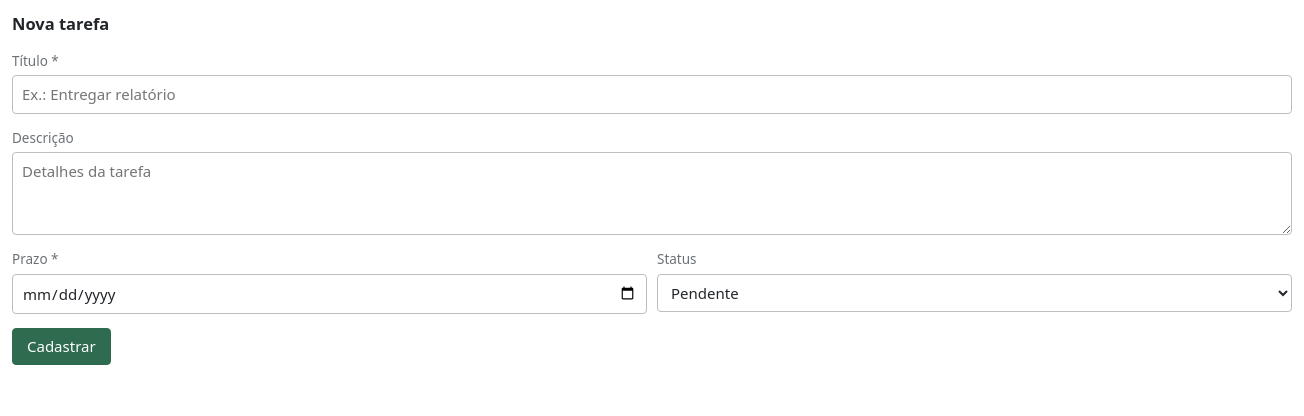
Scenario: FormularioTarefa › mostra mensagem de validação e não salva quando enviado vazio
Click the button "Cadastrar" at (61, 346), box [12, 328, 111, 364]
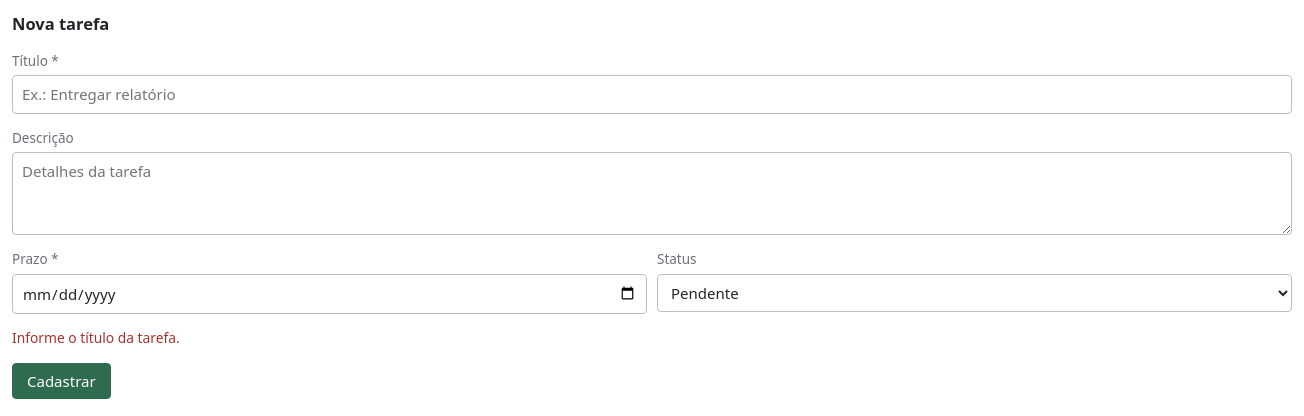
Expected: the message reads "Informe o título da tarefa.", [12, 328, 180, 347]
